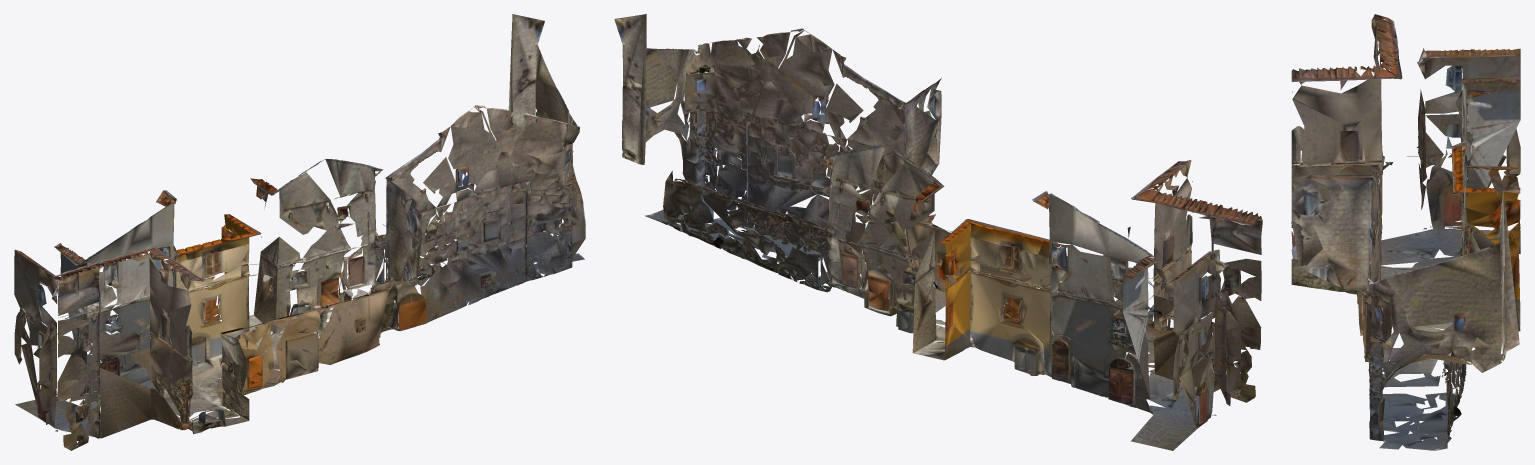
The model's file is via-s-gemini.glb.
The picture shows the model from 3 angles, left to right: view 1: azimuth 30°, elevation 25°; view 2: azimuth 150°, elevation 25°; view 3: azimuth 270°, elevation 25°; orthographic projection. The views are drawn at different scales.
Parts seen in each view (by area): view 1: Object_2, Object_5, Object_4, Object_3, Object_6, Object_7; view 2: Object_2, Object_5, Object_3, Object_6, Object_4; view 3: Object_2, Object_3, Object_5, Object_4, Object_6.
Part boxes in pixels (left/top/right/bottom): Object_2: left=15, top=107, right=584, bottom=450; Object_5: left=417, top=14, right=585, bottom=309; Object_4: left=14, top=107, right=516, bottom=445; Object_3: left=14, top=190, right=305, bottom=438; Object_6: left=52, top=105, right=486, bottom=431; Object_7: left=54, top=159, right=358, bottom=427; Object_2: left=622, top=30, right=1261, bottom=450; Object_5: left=614, top=14, right=850, bottom=279; Object_3: left=907, top=191, right=1228, bottom=427; Object_6: left=674, top=28, right=1262, bottom=415; Object_4: left=666, top=32, right=1241, bottom=427; Object_2: left=1291, top=53, right=1520, bottom=450; Object_3: left=1291, top=48, right=1520, bottom=331; Object_5: left=1367, top=188, right=1519, bottom=443; Object_4: left=1291, top=72, right=1520, bottom=393; Object_6: left=1291, top=14, right=1472, bottom=387.
Size of the model in its own units: 42.4 by 20.81 by 13.23.
Materials: 1 (1 with a texture image).
